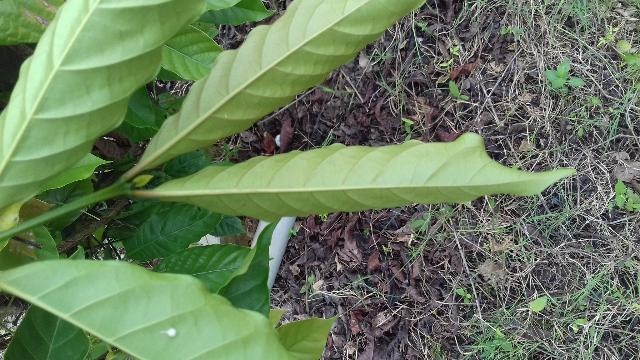healthy: (134, 125, 584, 223)
